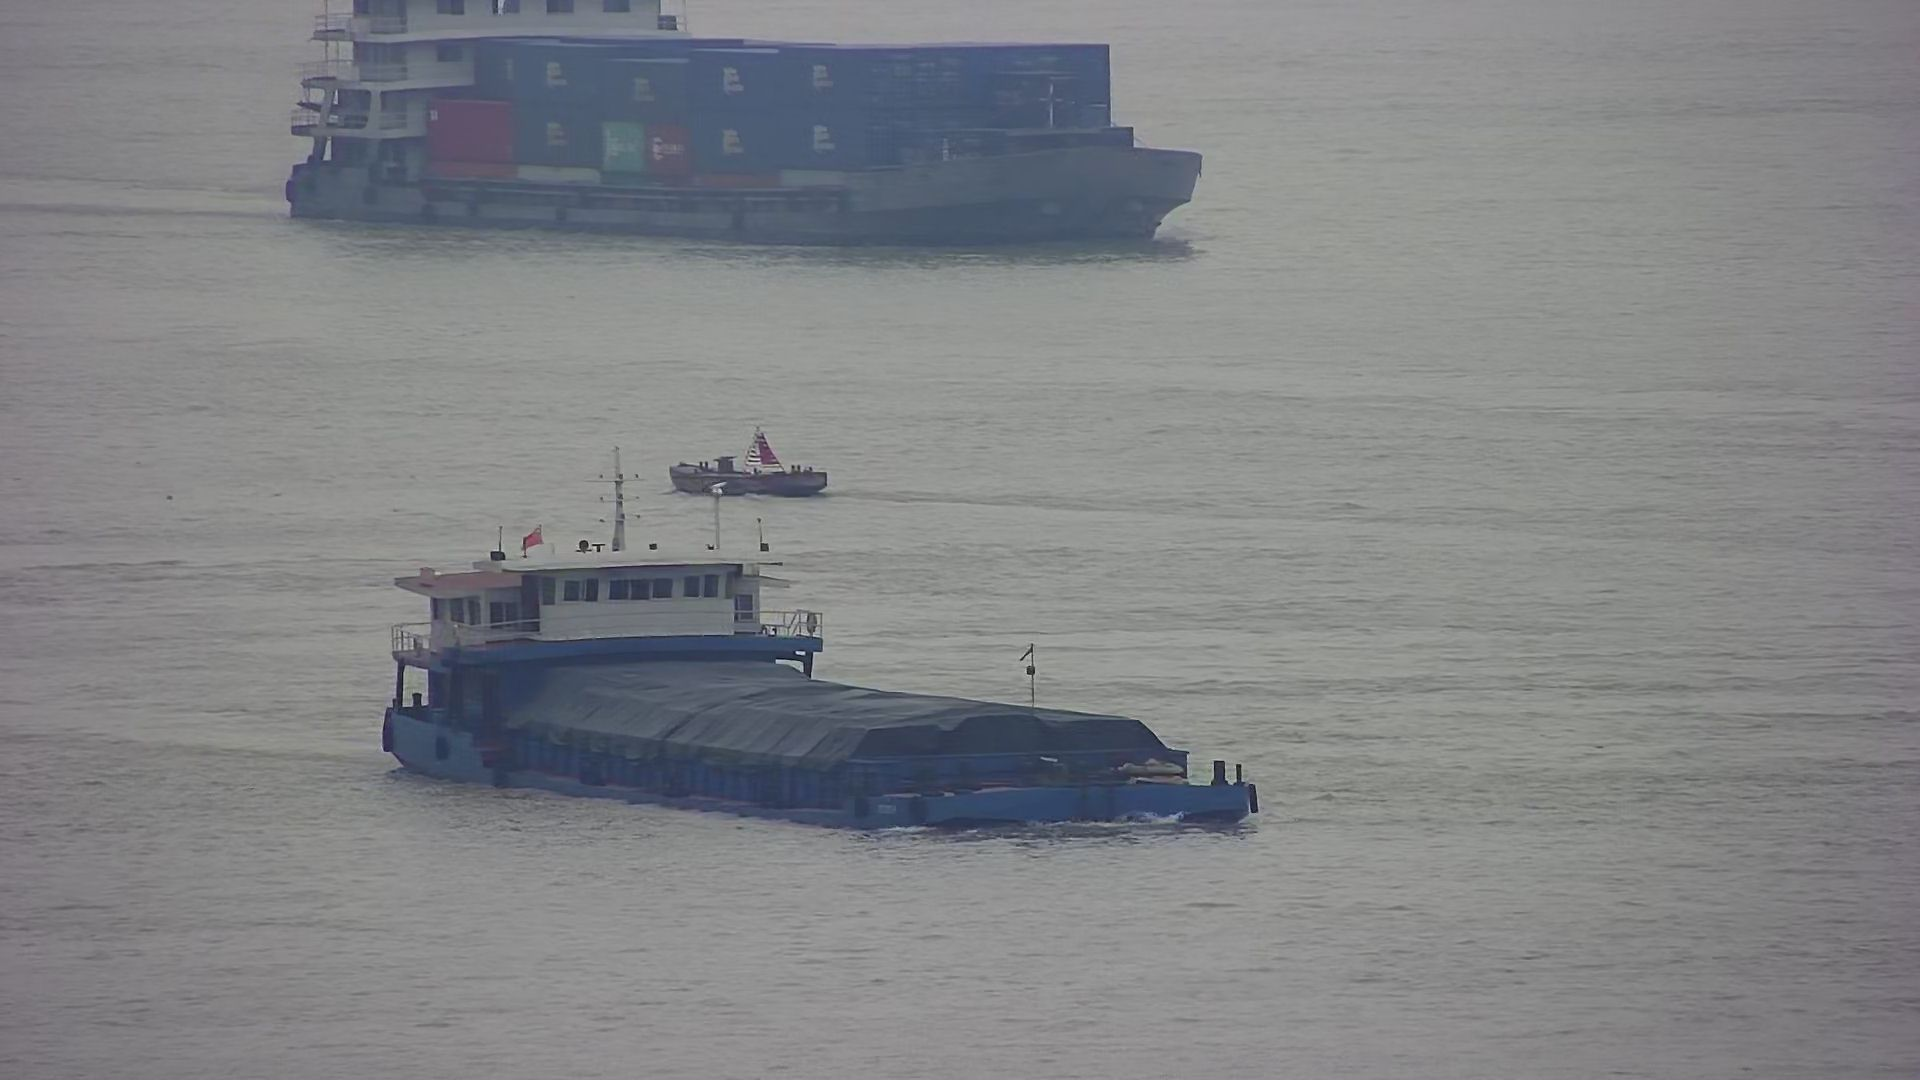boat: (659, 426, 831, 498)
ship: (382, 447, 1266, 837), (290, 3, 1204, 237)
